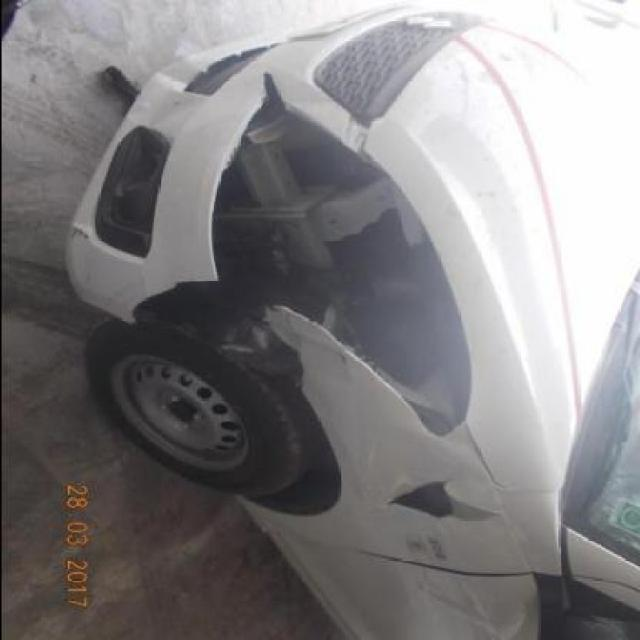damage: (118, 66, 473, 442), (377, 475, 504, 531), (118, 95, 198, 133), (64, 219, 94, 249)
